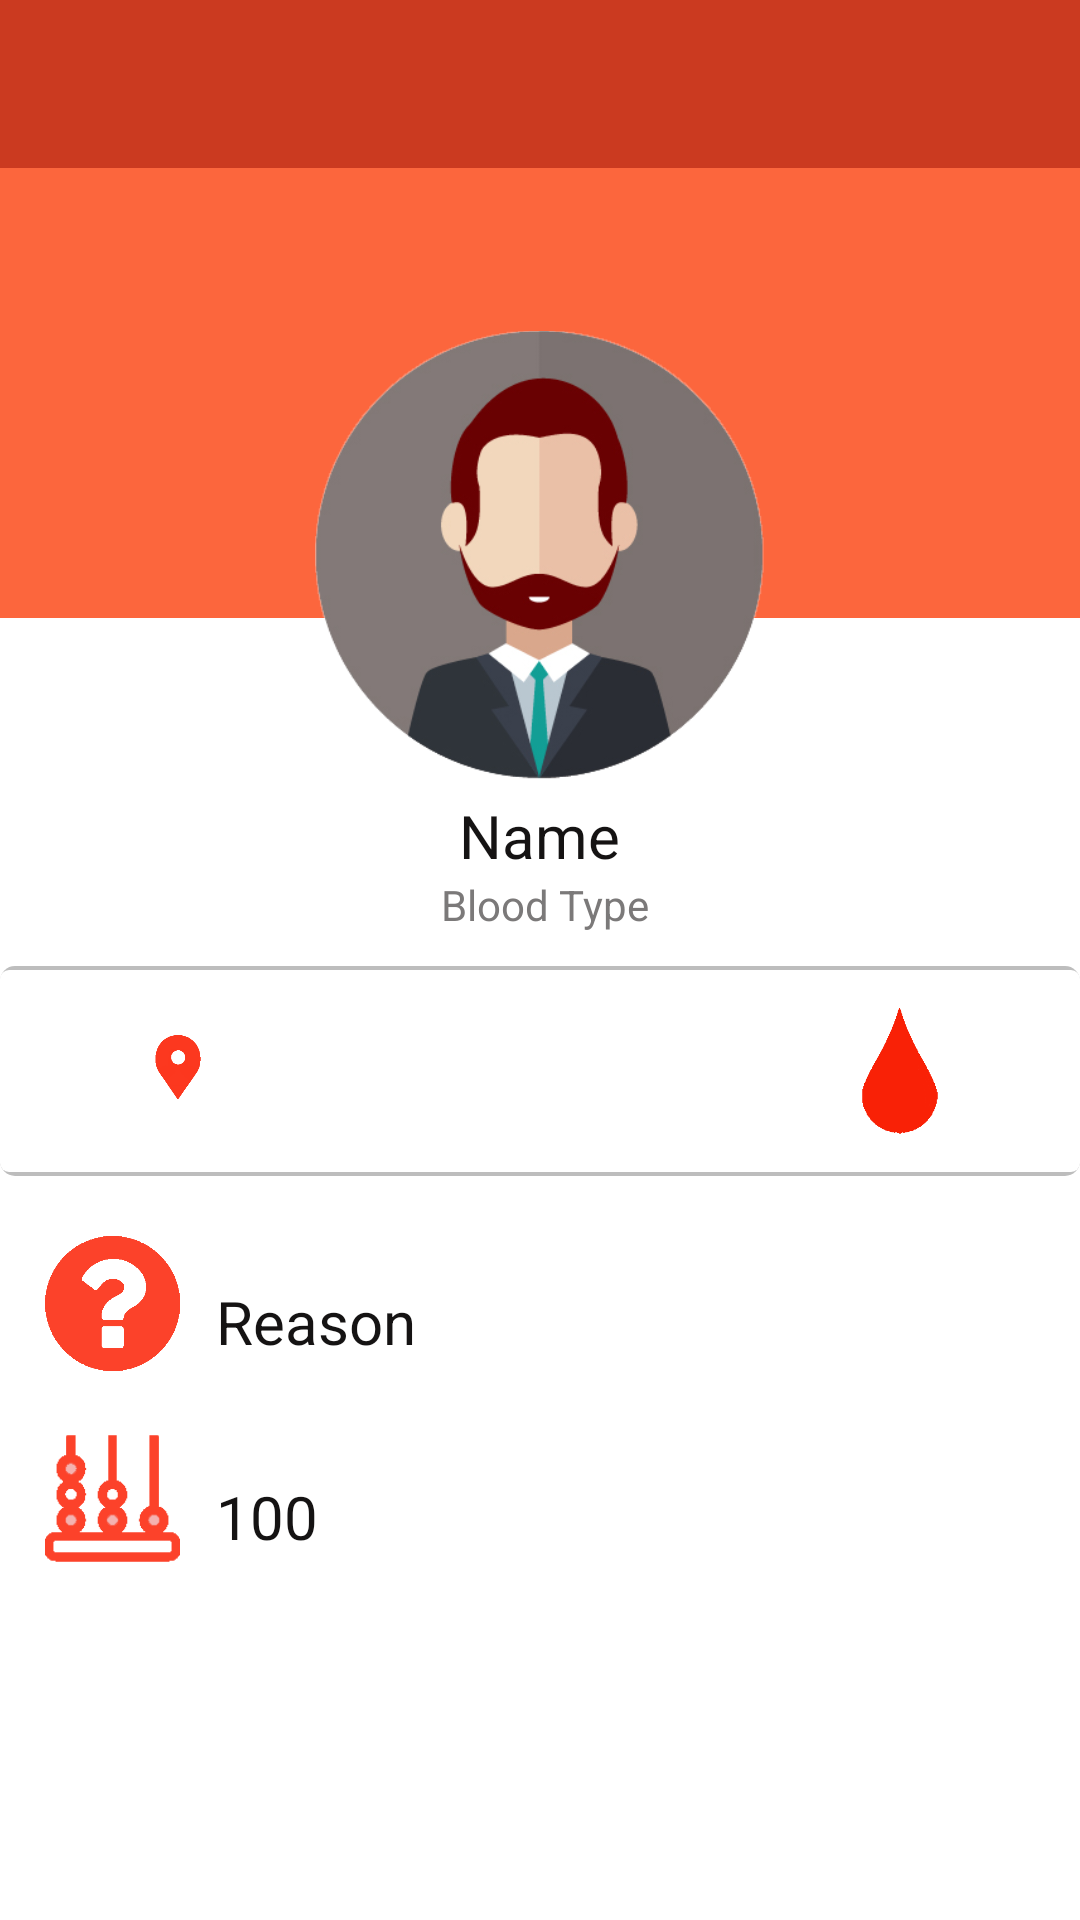

Named icons in this screenshot (1080*1920) and their bounding boxes, region(x1, y1, x2, y2):
counting: region(45, 1435, 180, 1562)
donate: region(862, 1008, 938, 1134)
locations: region(155, 1035, 201, 1099)
